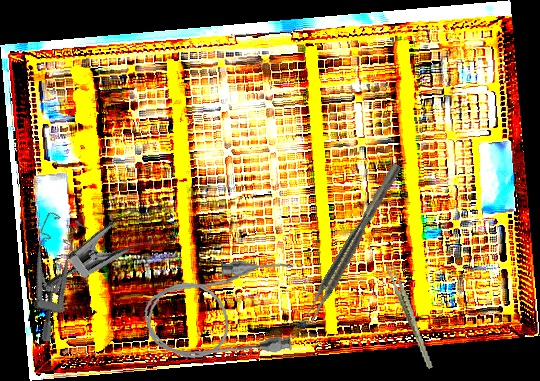Cannula: (138, 253, 304, 369)
Speculum: (40, 179, 188, 334), (0, 208, 100, 344)
Tissue Forceps: (301, 162, 407, 323), (385, 258, 434, 374)
